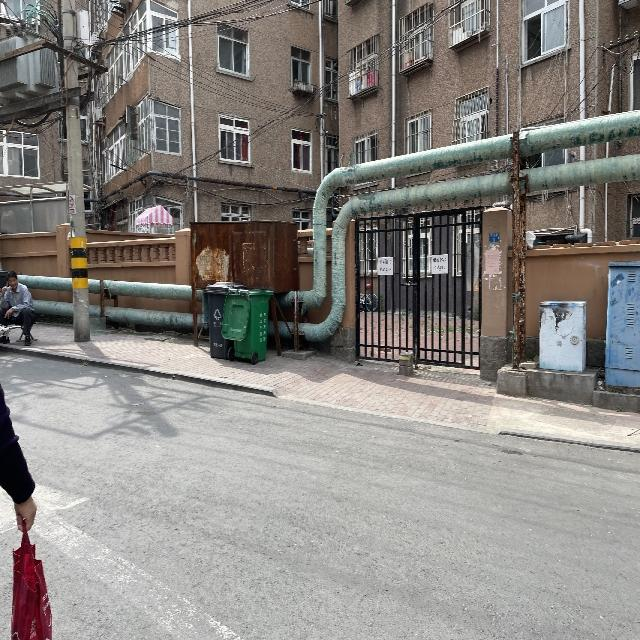garbage_bin: (220, 287, 272, 361), (204, 280, 242, 357)
